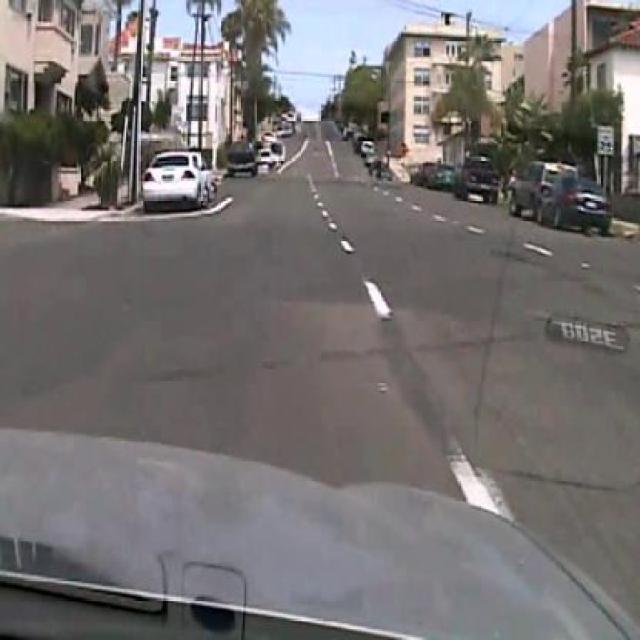speedLimit25: (596, 123, 614, 156)
